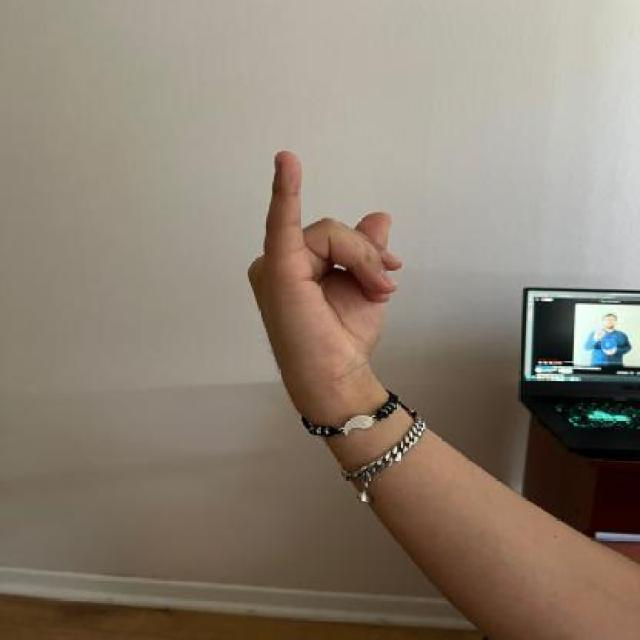I: (235, 148, 407, 384)
